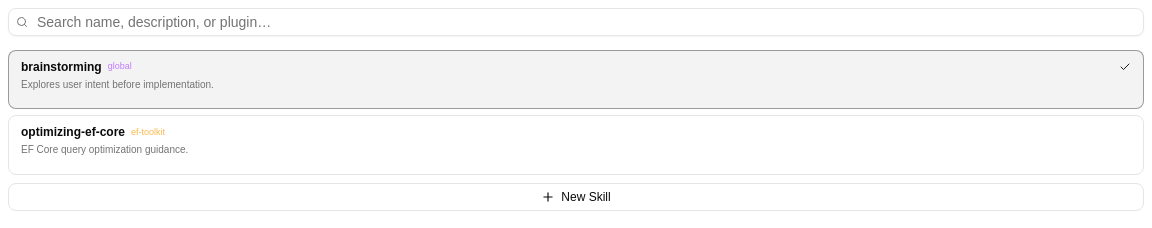
Test case: SkillsPanel › filters skills by search query (matches name and description)
The width and height of the screenshot is (1152, 228).
Check: the text "brainstorming" is shown, box [21,59,102,75]
In the field named "Search skills": (576, 22) [8,8,1144,36], type "ef-core"
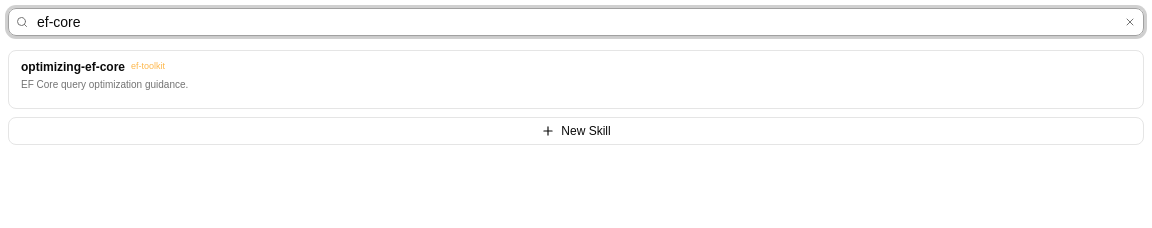
Check: the text "optimizing-ef-core" is shown, box [21,59,125,75]
Check: the button "brainstorming" is gone
# Clear via the X button restores everything
Click the button named "Clear search": (1130, 22) [1122,14,1138,30]
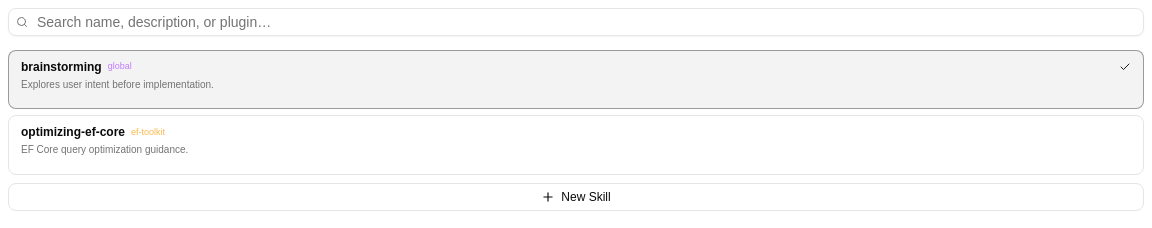
Check: the text "optimizing-ef-core" is shown, box [21,124,125,140]
Check: the text "brainstorming" is shown, box [21,59,102,75]
# Match by description text
In the field named "Search skills": (576, 22) [8,8,1144,36], type "user intent"
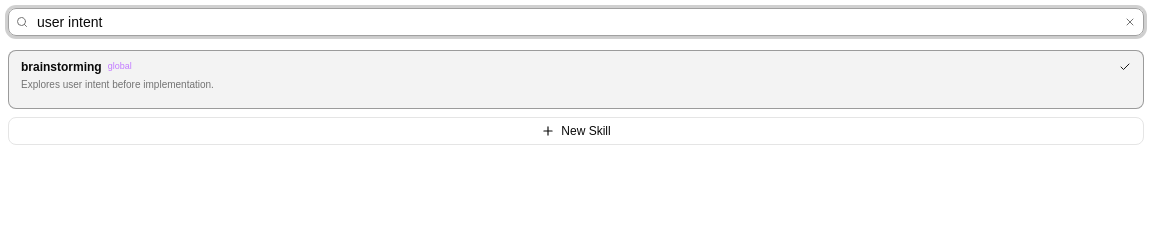
Check: the text "brainstorming" is shown, box [21,59,102,75]
Check: the button "optimizing-ef-core" is gone
# Match by plugin name
Replace the text in the field named "Search skills" with "ef-toolkit": (576, 22) [8,8,1144,36]
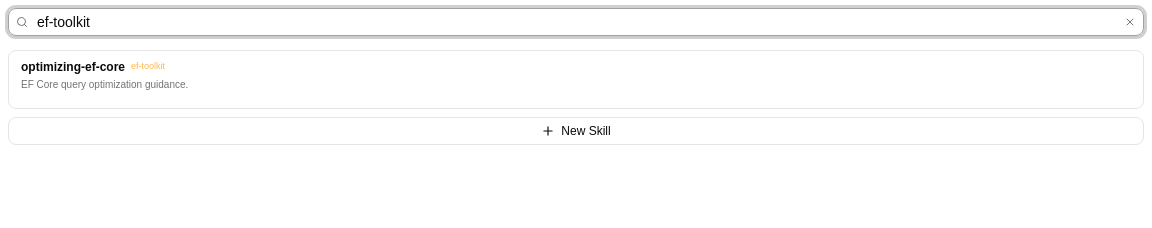
Check: the text "optimizing-ef-core" is shown, box [21,59,125,75]
Check: the button "brainstorming" is gone
# No matches → empty state mentions the query
Replace the text in the field named "Search skills" with "nonexistent": (576, 22) [8,8,1144,36]
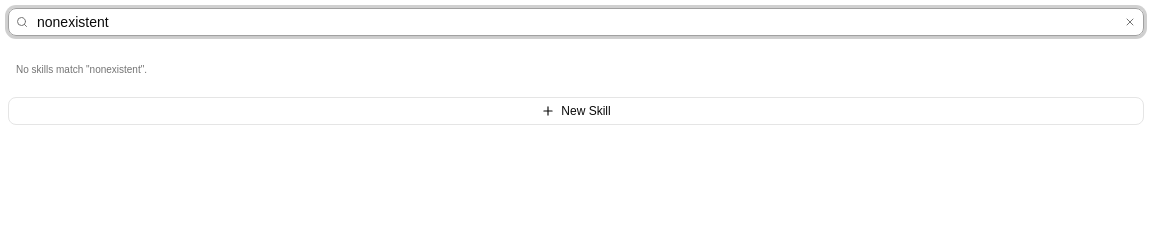
Check: the text "No skills match \"nonexistent\"." is shown, box [16,64,147,75]
